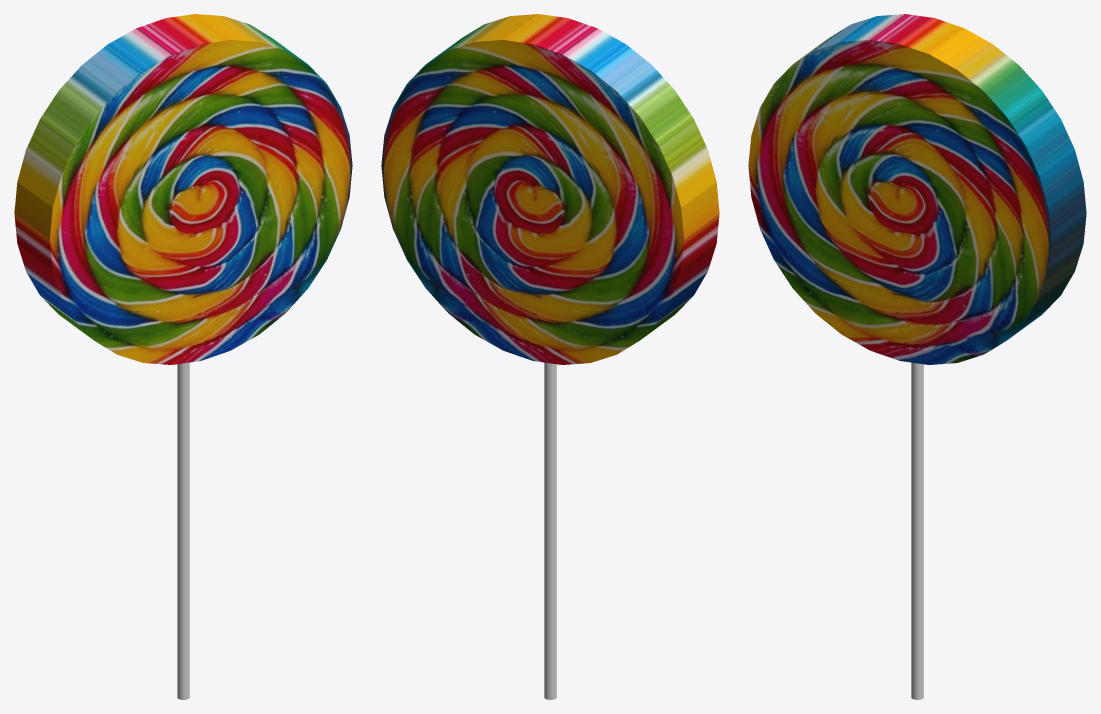
The model's file is lolly.glb.
3 views of the same model, side by side, from view 1: azimuth 30°, elevation 25°; view 2: azimuth 150°, elevation 25°; view 3: azimuth 330°, elevation 25° (orthographic).
Parts seen in each view (by area): view 1: Cylinder.001, Cylinder; view 2: Cylinder.001, Cylinder; view 3: Cylinder.001, Cylinder.
Boxes of the visible parts, x1=… form: Cylinder.001: x1=14, y1=14, x2=352, y2=364; Cylinder: x1=177, y1=362, x2=189, y2=699; Cylinder.001: x1=381, y1=14, x2=719, y2=364; Cylinder: x1=544, y1=362, x2=556, y2=699; Cylinder.001: x1=748, y1=14, x2=1086, y2=364; Cylinder: x1=911, y1=362, x2=923, y2=699.
Bounding box in the file's own units: 5.03 × 10.58 × 1.02.
2 materials, 1 textured.
